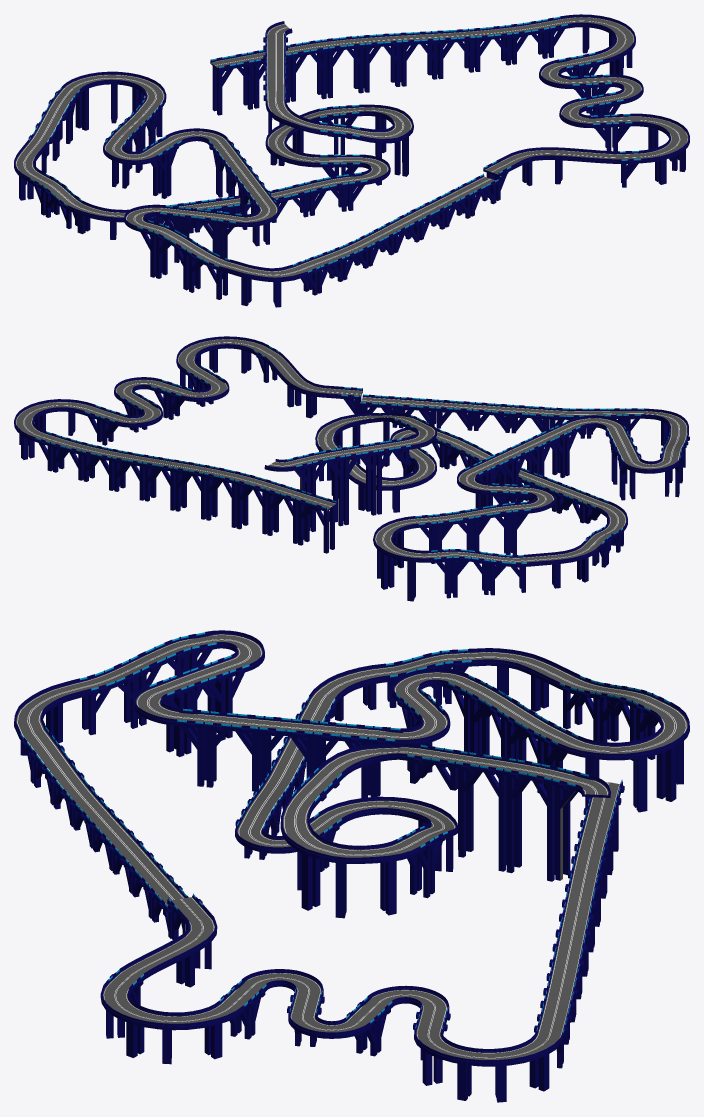
File: Track.fbx
3 views of the same model, one above another, from view 1: azimuth 30°, elevation 25°; view 2: azimuth 150°, elevation 25°; view 3: azimuth 270°, elevation 25° (orthographic). The views are drawn at different scales.
Parts seen in each view (by area): view 1: HW_1, HW_2; view 2: HW_1, HW_2; view 3: HW_1, HW_2.
Part boxes in pixels (x1=…): HW_1: x1=14, y1=21, x2=499, y2=307; HW_2: x1=210, y1=14, x2=689, y2=200; HW_1: x1=264, y1=394, x2=689, y2=601; HW_2: x1=14, y1=336, x2=362, y2=553; HW_1: x1=14, y1=630, x2=689, y2=938; HW_2: x1=100, y1=780, x2=624, y2=1102.
Size of what is drawn, in the model's own units: 68.33 by 8.68 by 47.37.
